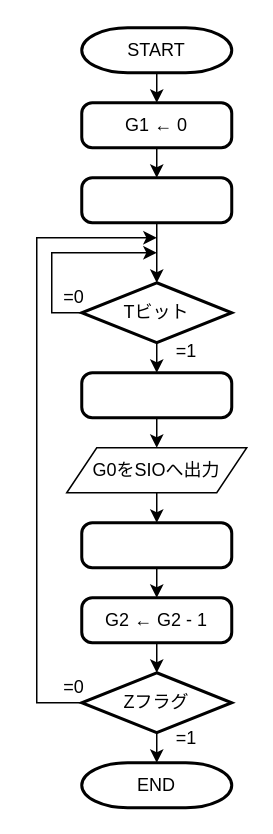
Some shapes in this 273 by 834 pixel diagram are drawn without their labels. The centre of each missing label's shape, as x and y in pixels:
G0 ← [DATA+G1]: (156,394)
G1 ← G1 + 1: (156,544)
G2 ← 9: (156,200)
